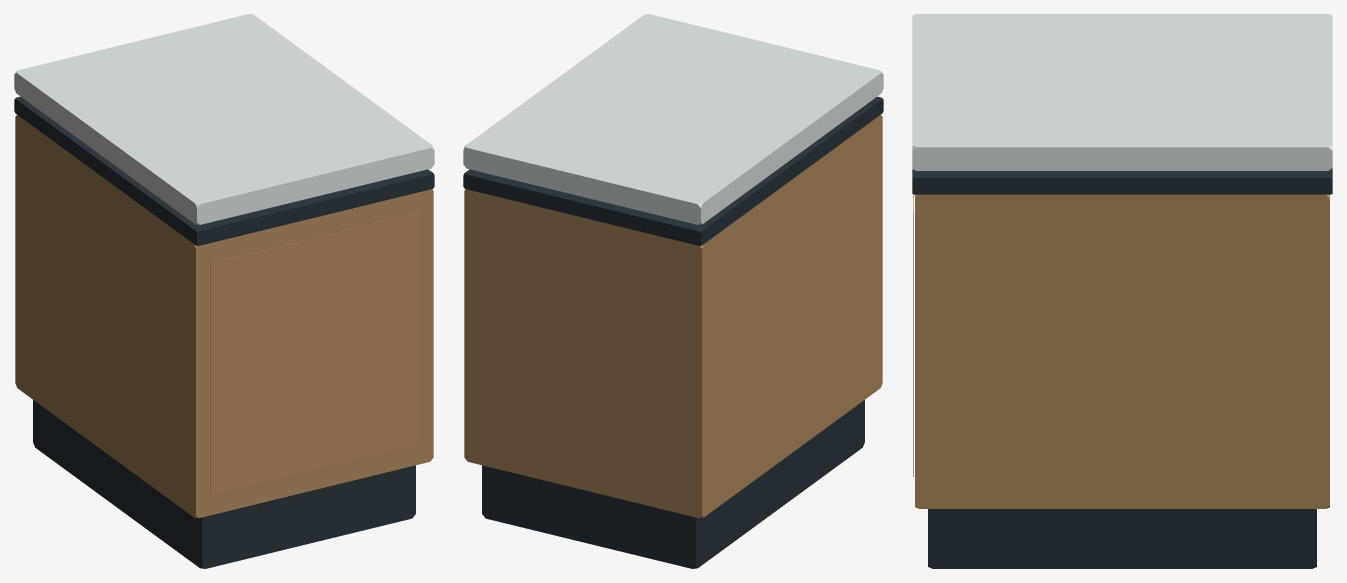
Rendered from FrontCounter_Short.glb.
The picture shows the model from 3 angles, left to right: view 1: azimuth 30°, elevation 25°; view 2: azimuth 150°, elevation 25°; view 3: azimuth 270°, elevation 25°; orthographic projection. The views are drawn at different scales.
Parts seen in each view (by area): view 1: FrontCounter_Short; view 2: FrontCounter_Short; view 3: FrontCounter_Short.
Boxes of the visible parts, x1,y1,x2,y2 form: FrontCounter_Short: [14, 14, 434, 568]; FrontCounter_Short: [463, 14, 883, 568]; FrontCounter_Short: [912, 14, 1332, 568].
Bounding box in the file's own units: 0.6 × 0.9 × 0.8.
